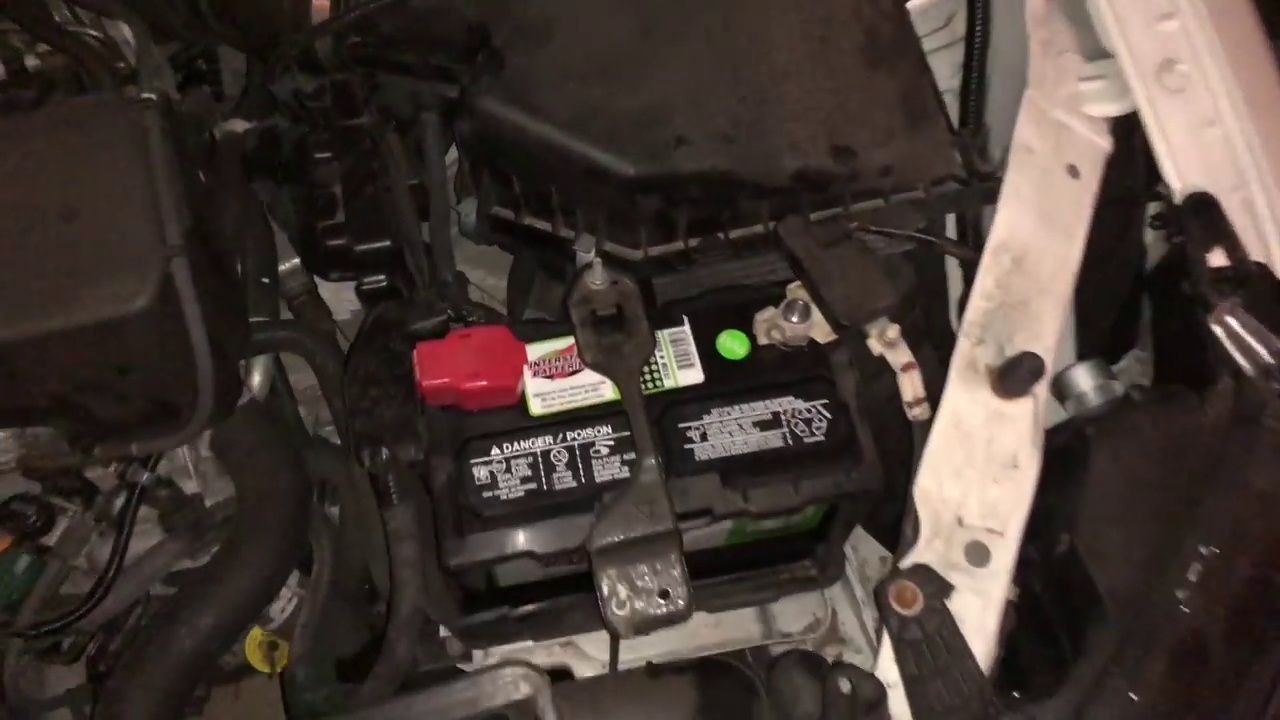battery: (404, 286, 864, 567)
neg_connected: (743, 274, 834, 369)
pos_connected: (403, 293, 552, 416)
